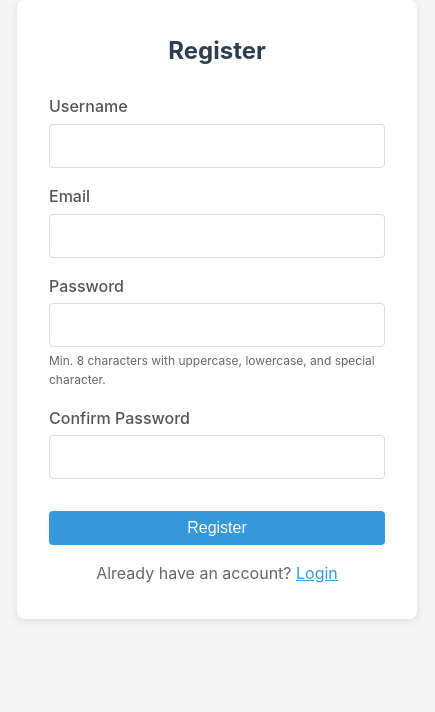
Test: RegisterPage › shows validation error for password mismatch
Type "testuser" into the field labelled "Username".
click(217, 146); type("testuser")  # box [49,124,385,168]
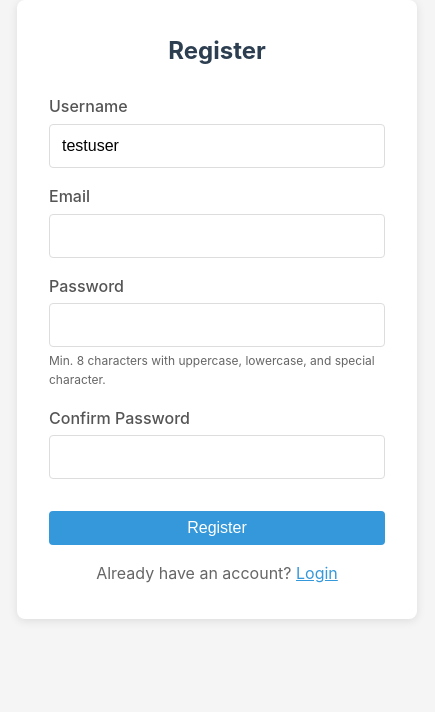
Type "test@example.com" into the field labelled "Email".
click(217, 236); type("test@example.com")  # box [49,214,385,258]
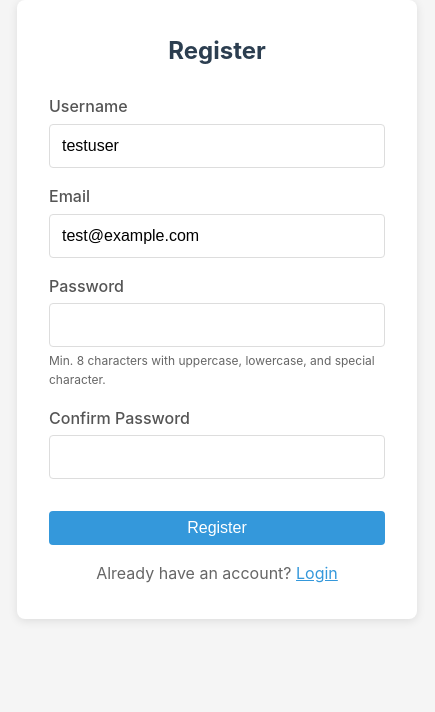
Type "Password123!" into the password field labelled "Password".
click(217, 325); type("Password123!")  # box [49,303,385,347]
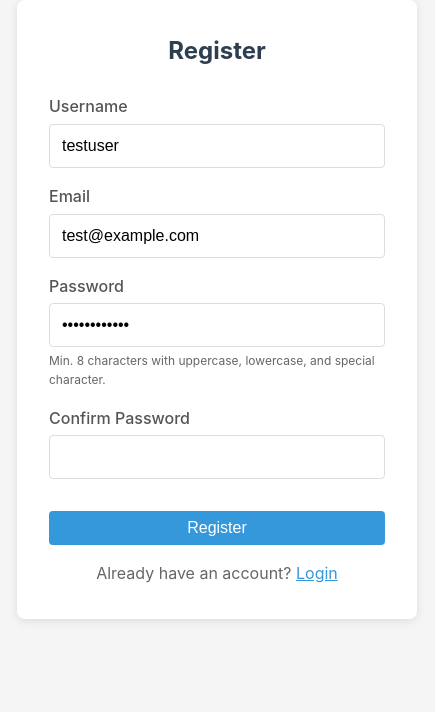
Type "Different123!" into the password field labelled "Confirm Password".
click(217, 457); type("Different123!")  # box [49,435,385,479]
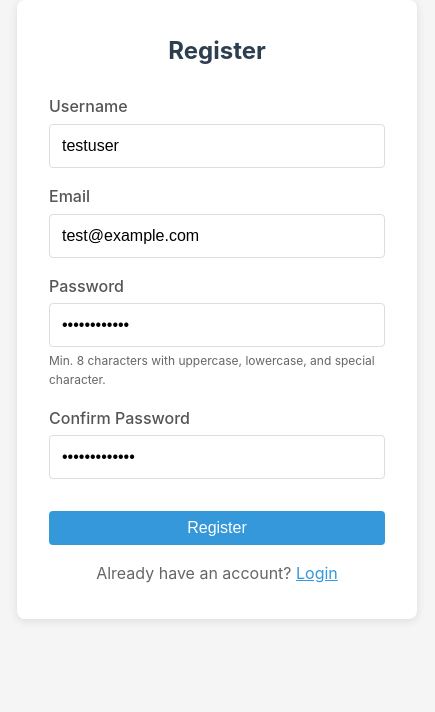
Click the button "Register".
click(217, 528)  # box [49,511,385,545]
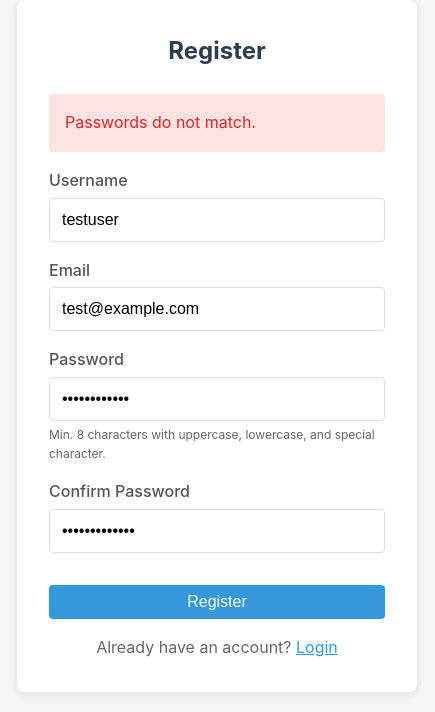
Check: the text "Passwords do not match." is shown, box [49,94,385,152]
